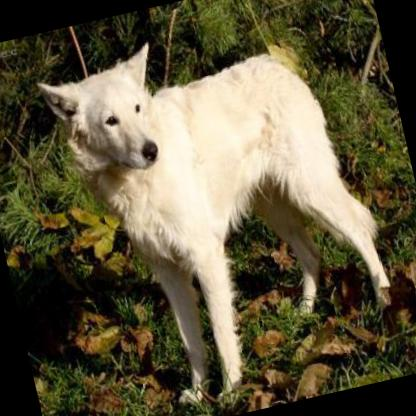kuvasz: (30, 0, 412, 416)
